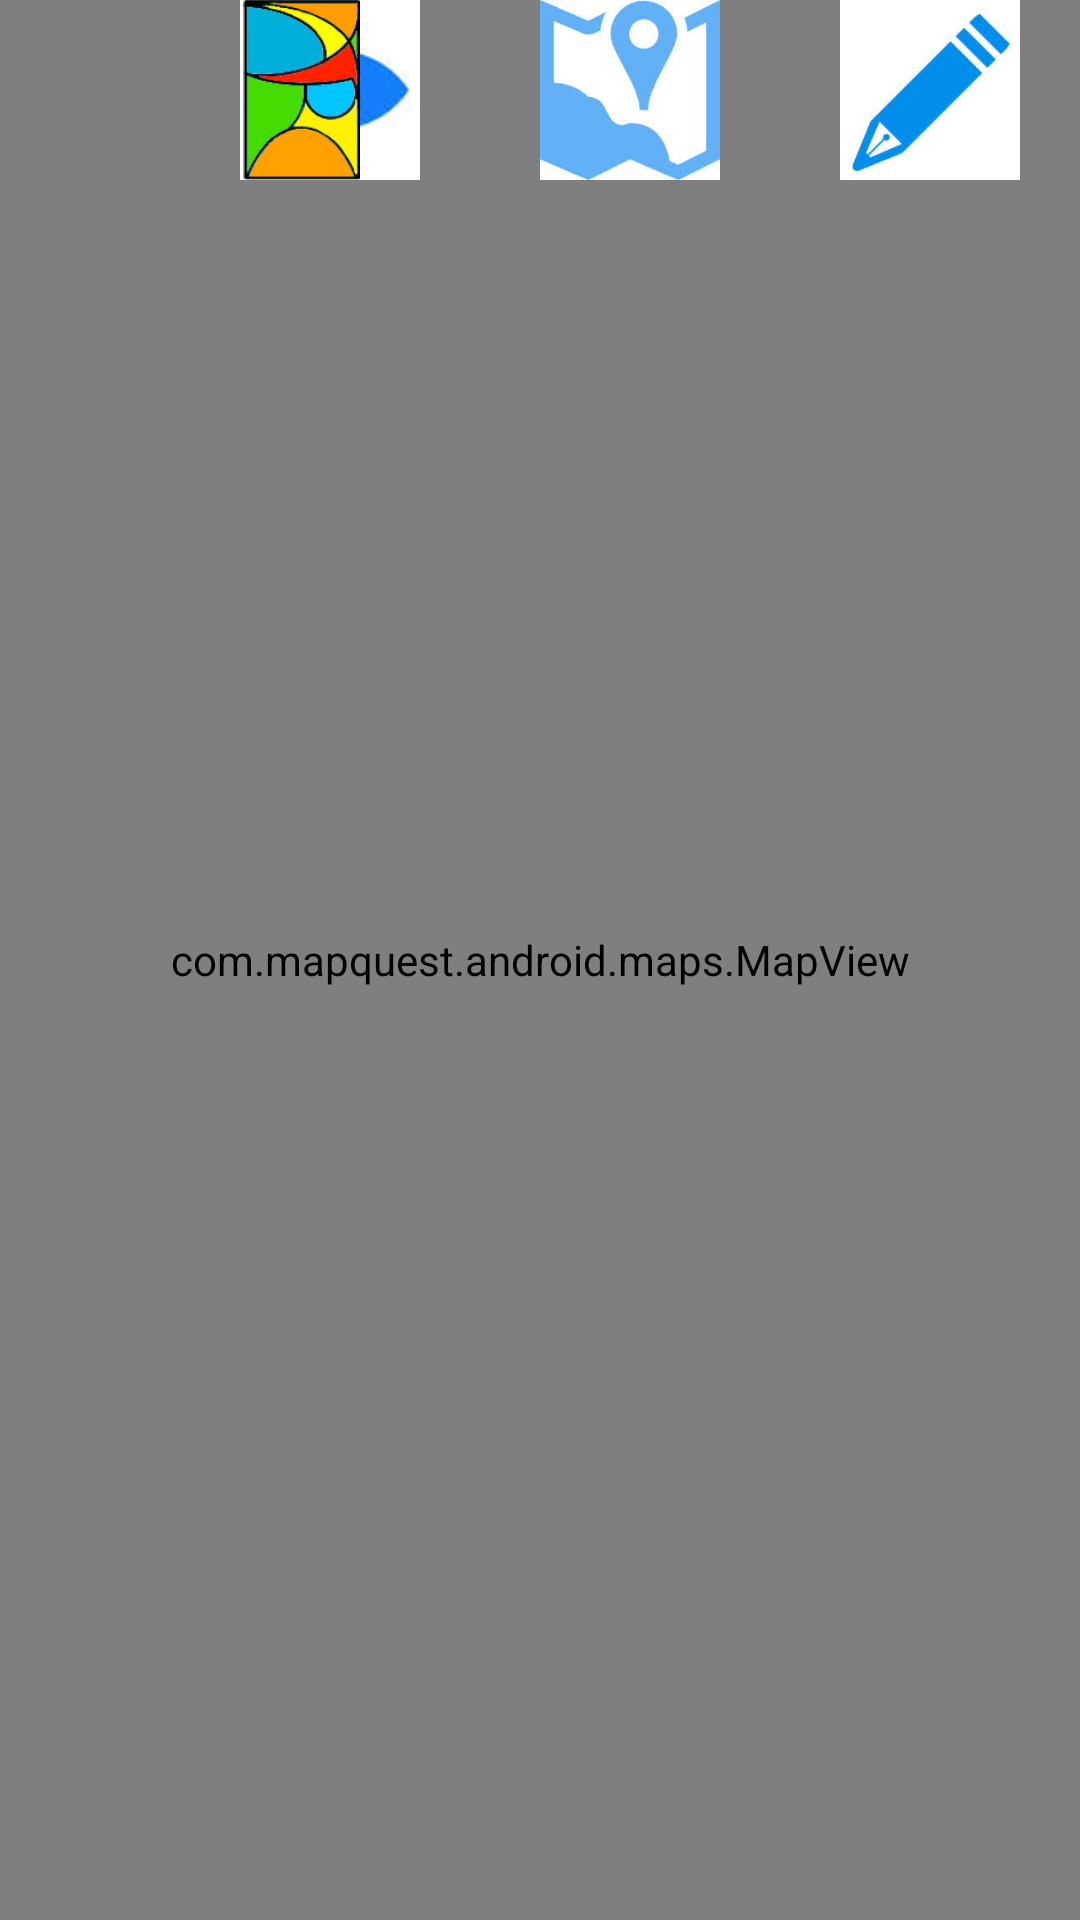

Icon click points for this 1080×1920 phone screenshot, format (x,y):
post view: (930,90)
